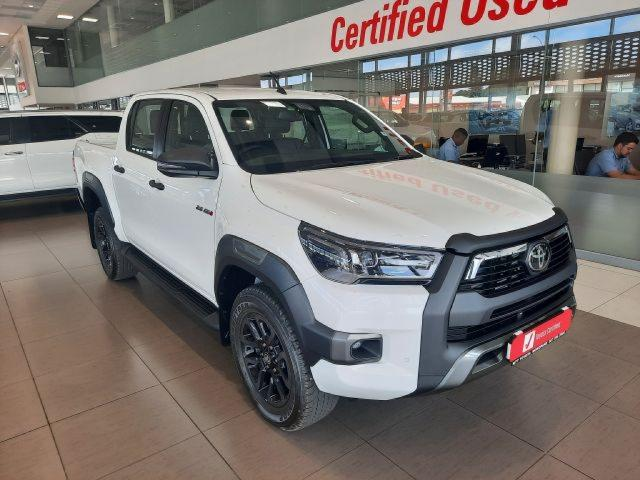toyota: (72, 71, 578, 433)
